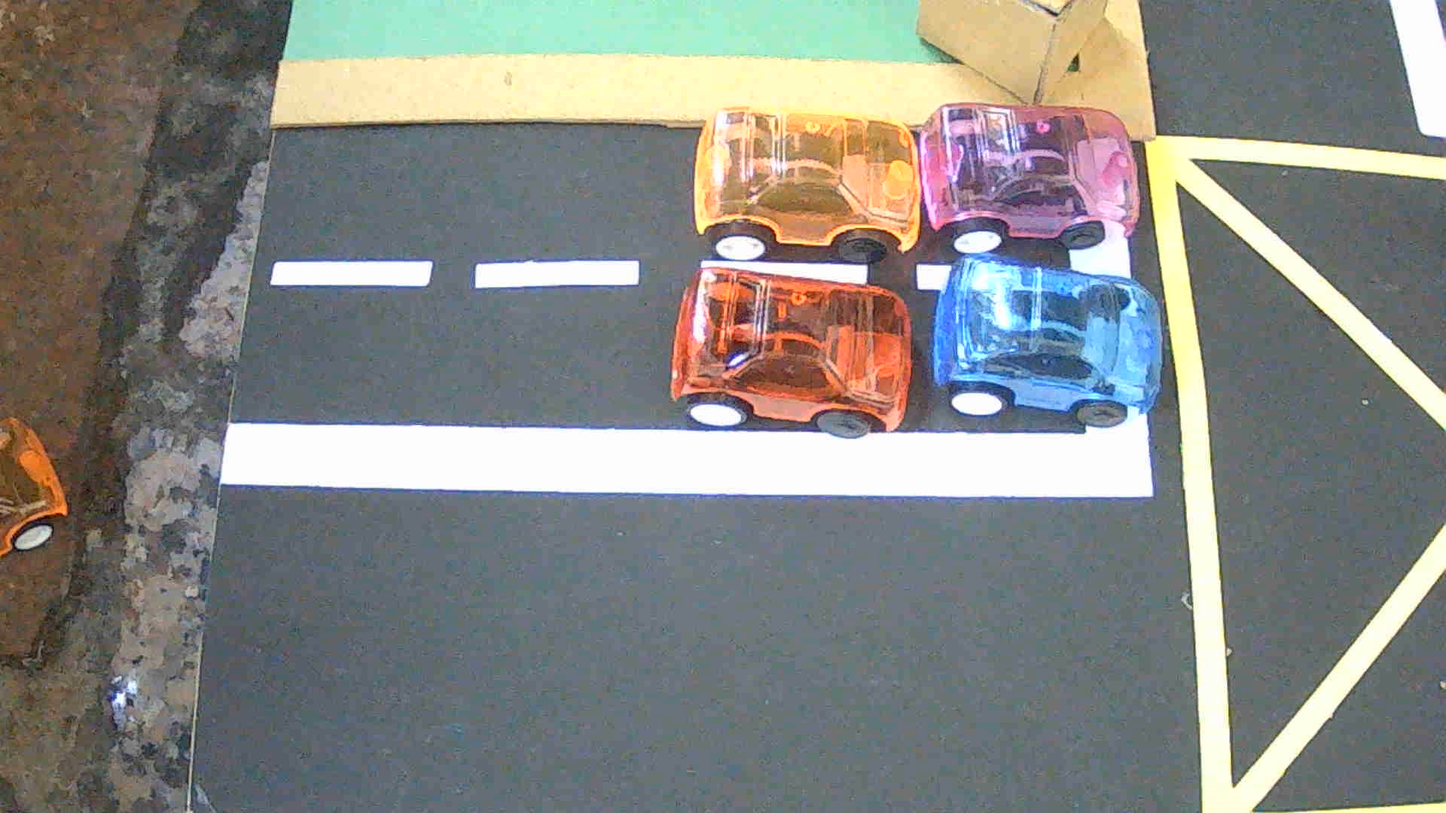Mobil biru: (932, 254, 1163, 428)
Mobil merah: (671, 261, 912, 437)
Mobil orange: (694, 107, 921, 263)
Mobil ungu: (920, 103, 1139, 254)
